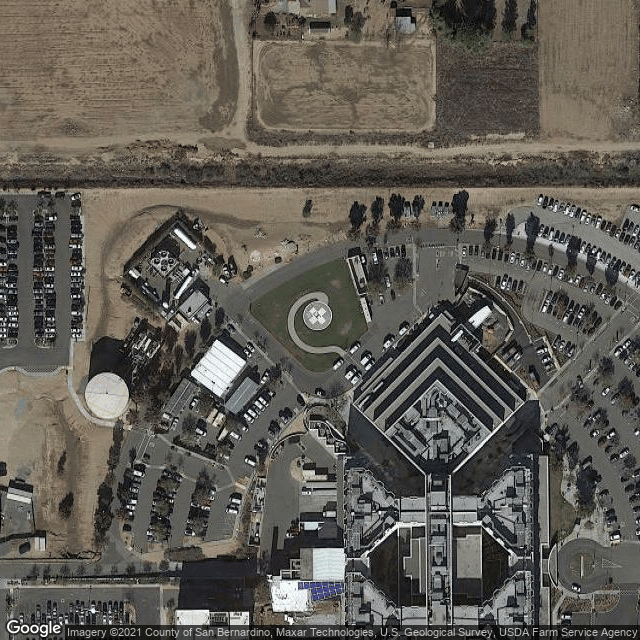Helipad: (300, 299, 335, 333)
